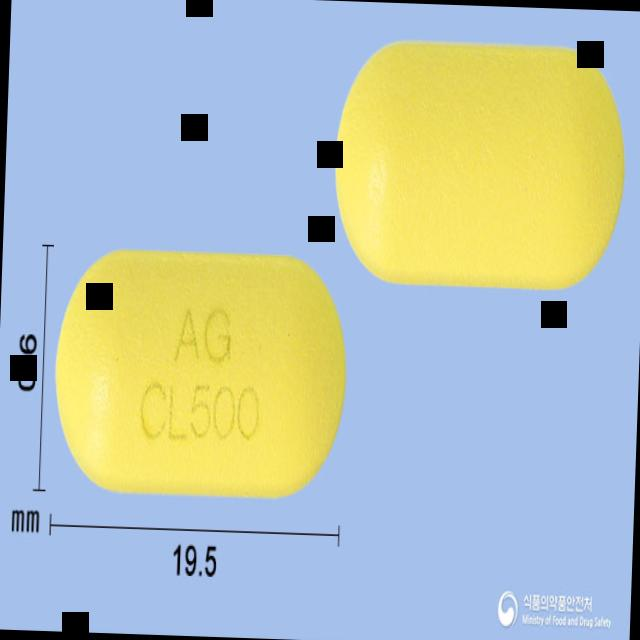Claridon: (51, 242, 350, 506), (330, 38, 628, 293)
